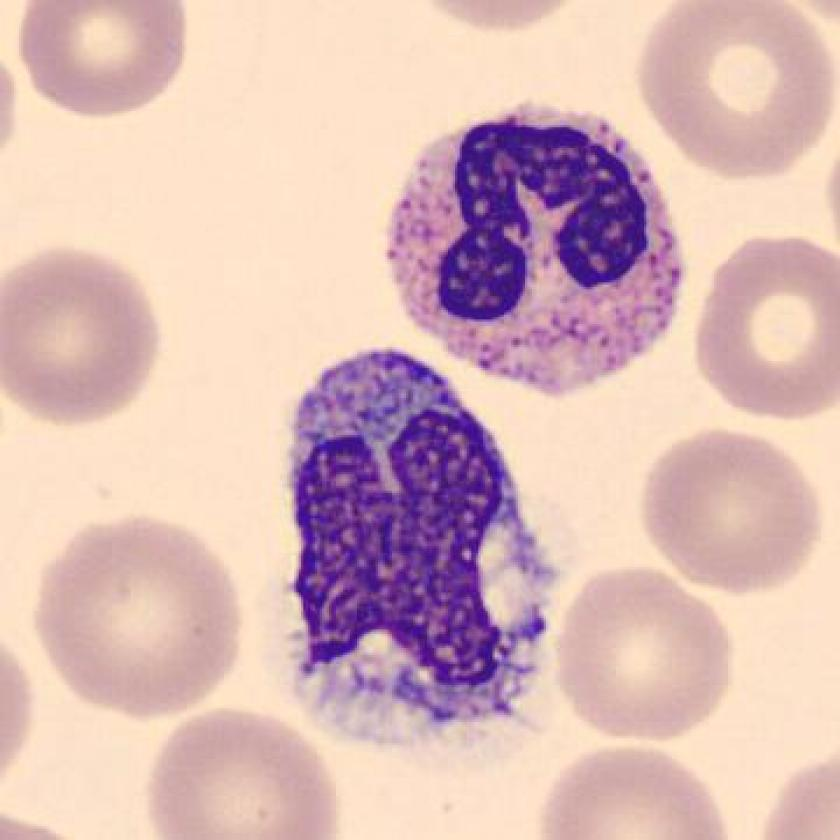monocyte: (262, 334, 582, 767)
